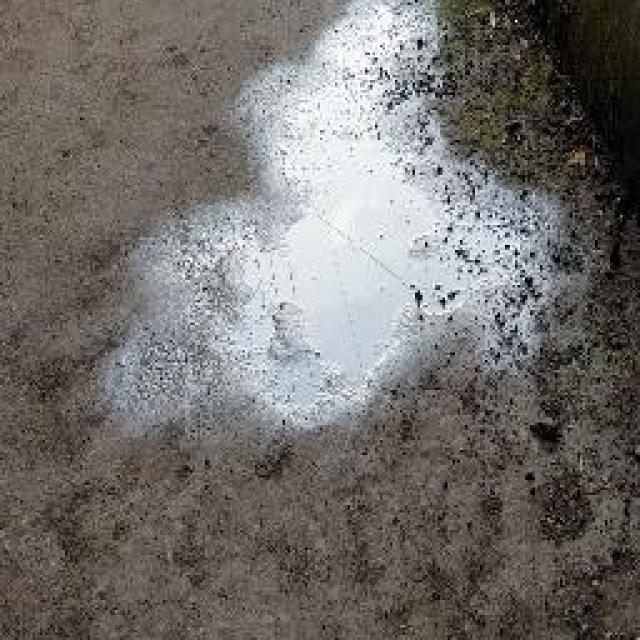waterlogging: (264, 53, 525, 406)
